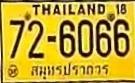0: (78, 19, 94, 58)
2: (27, 20, 44, 58)
6: (113, 18, 130, 57), (59, 19, 75, 58), (96, 19, 111, 57)
7: (9, 19, 24, 58)
SPK: (30, 61, 111, 80)
